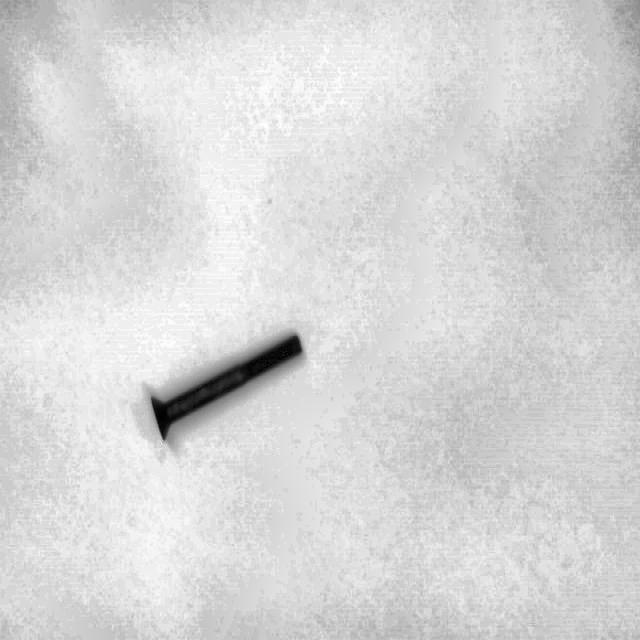Flat head socket screw: (147, 328, 305, 443)
